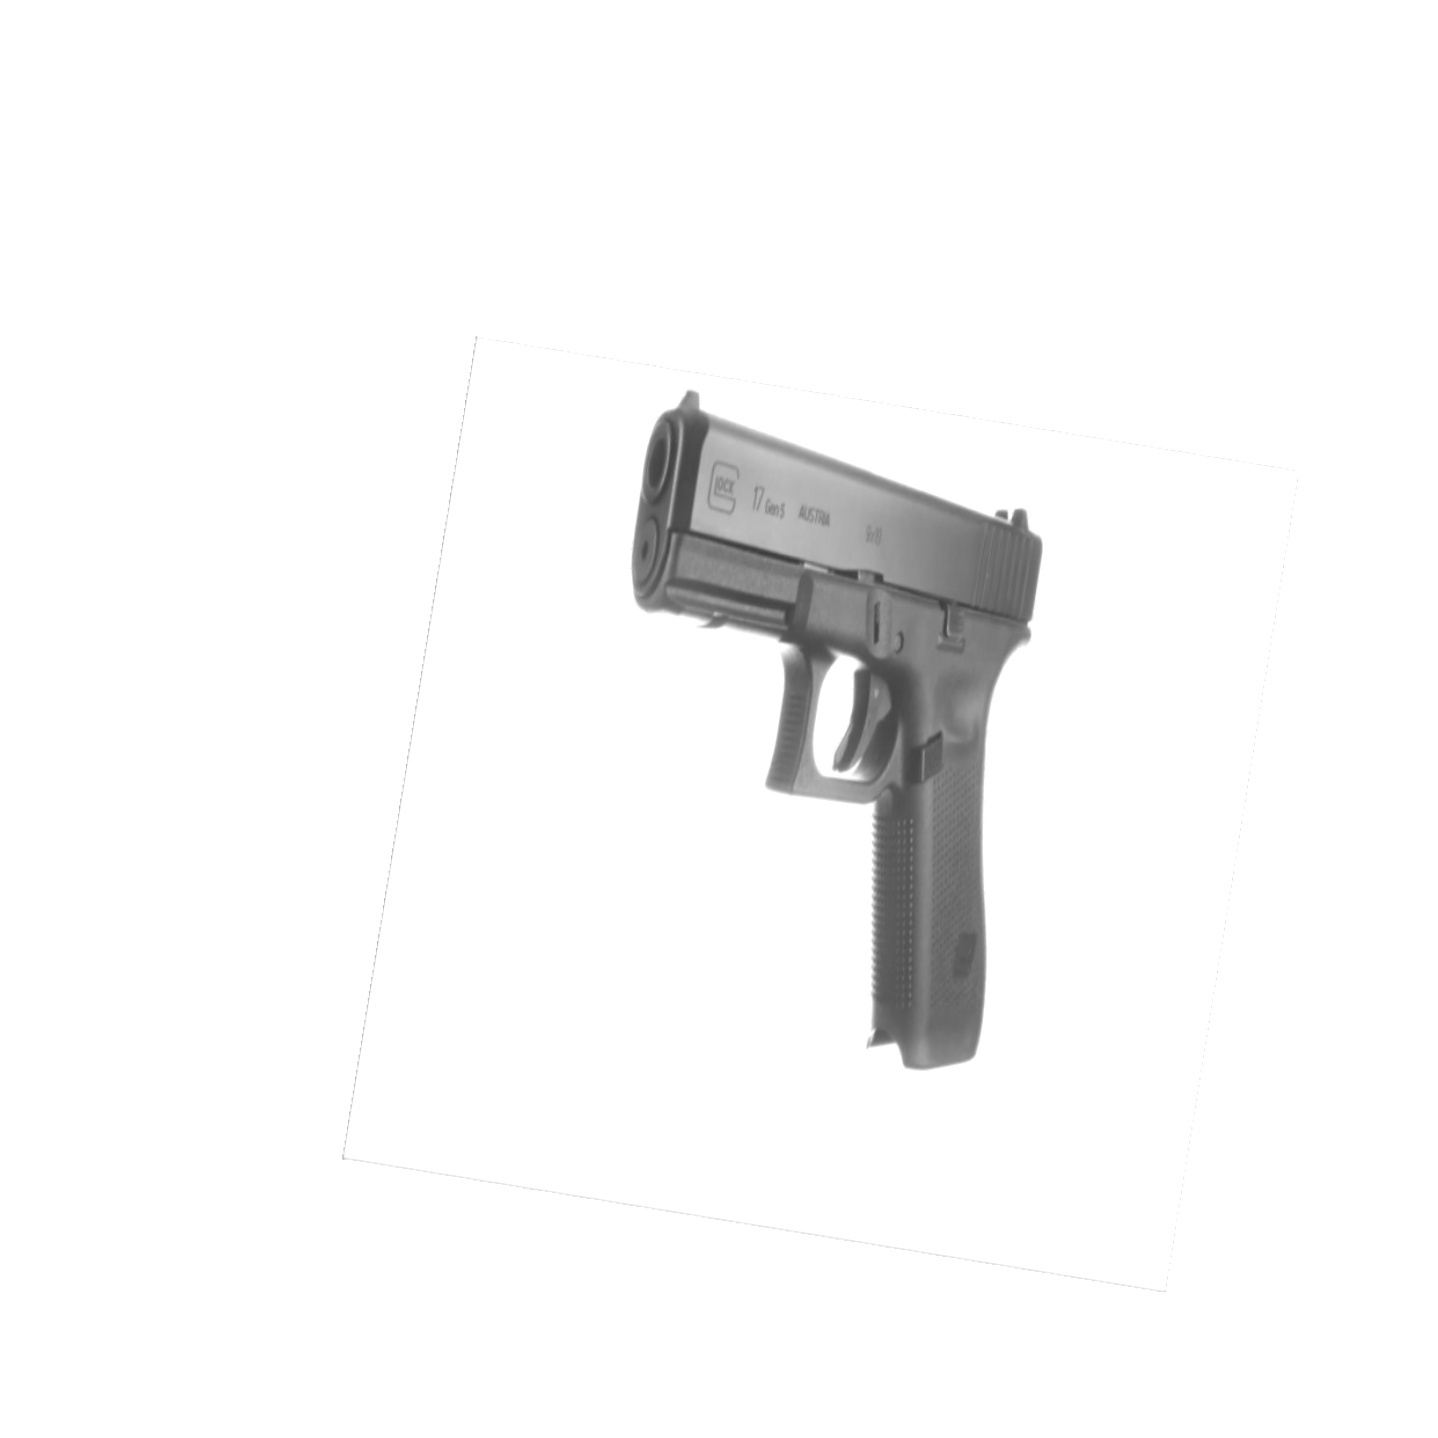gun: (629, 390, 1043, 1069)
